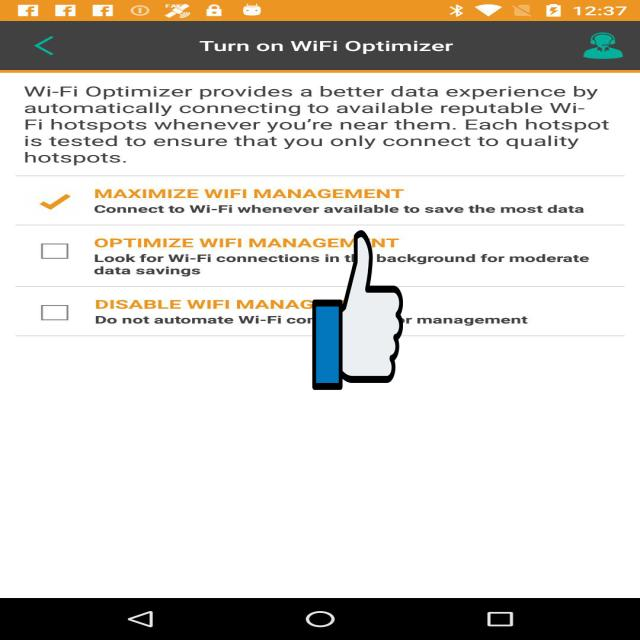privacy zuckering: (312, 227, 403, 393)
